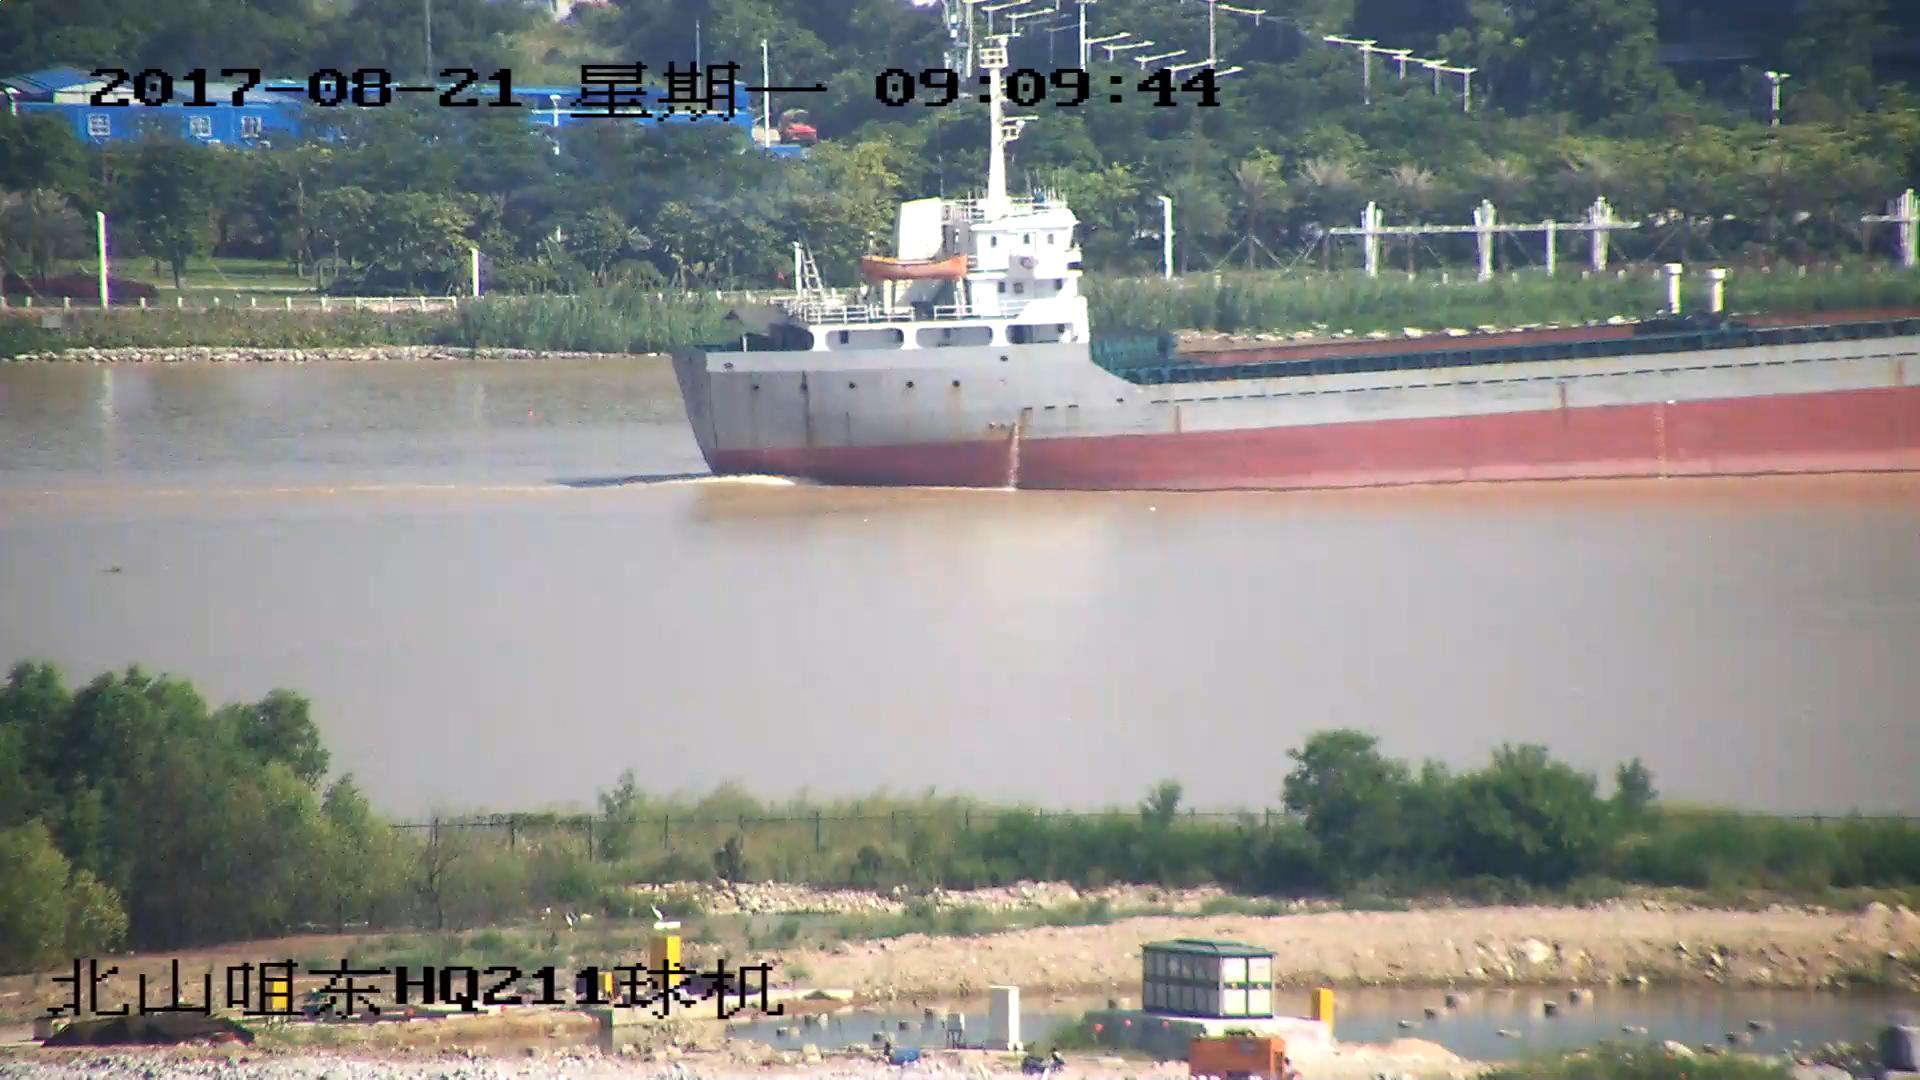general cargo ship: (666, 126, 1920, 489)
